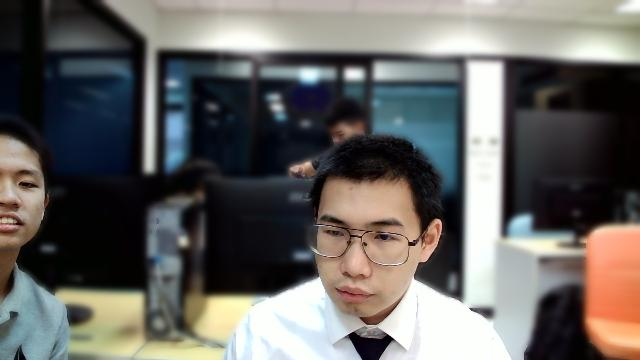fokus: (312, 169, 442, 319)
